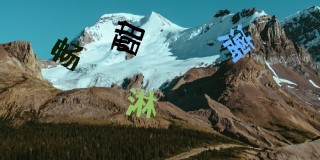淋: (126, 88, 158, 118)
漓: (216, 22, 255, 63)
畅: (50, 36, 83, 71)
酣: (110, 20, 146, 56)
